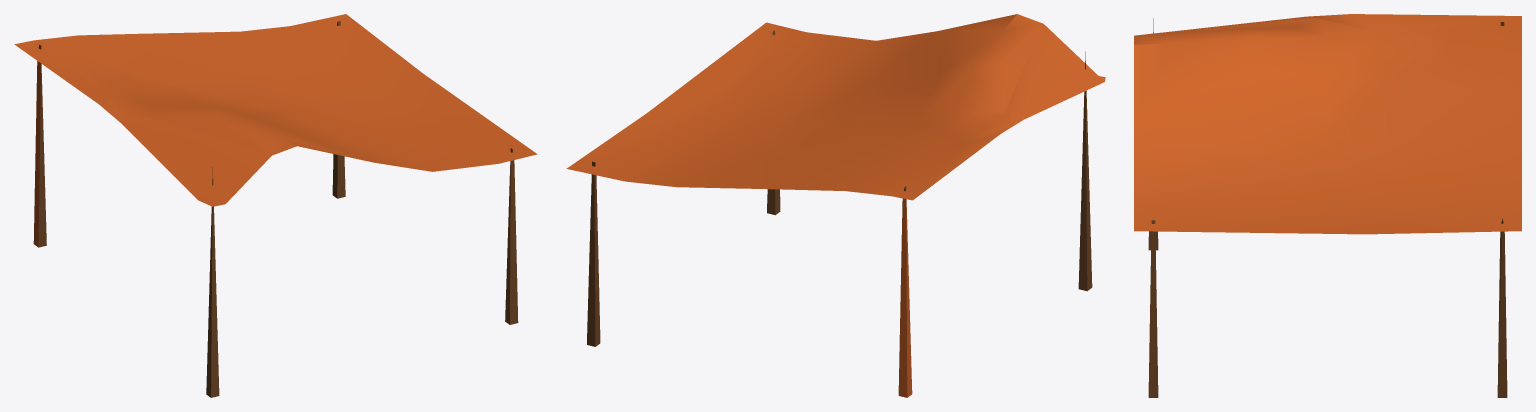
The model's file is Shed_1.fbx.
3 renders of one model, left to right at view 1: azimuth 30°, elevation 25°; view 2: azimuth 150°, elevation 25°; view 3: azimuth 270°, elevation 25°, orthographic. The views are drawn at different scales.
Parts seen in each view (by area): view 1: Shed_1; view 2: Shed_1; view 3: Shed_1.
Part boxes in pixels (x1=…): Shed_1: x1=14, y1=14, x2=537, y2=397; Shed_1: x1=566, y1=14, x2=1105, y2=397; Shed_1: x1=1134, y1=14, x2=1521, y2=397.
Bounding box in the file's own units: 200 × 137 × 200.
